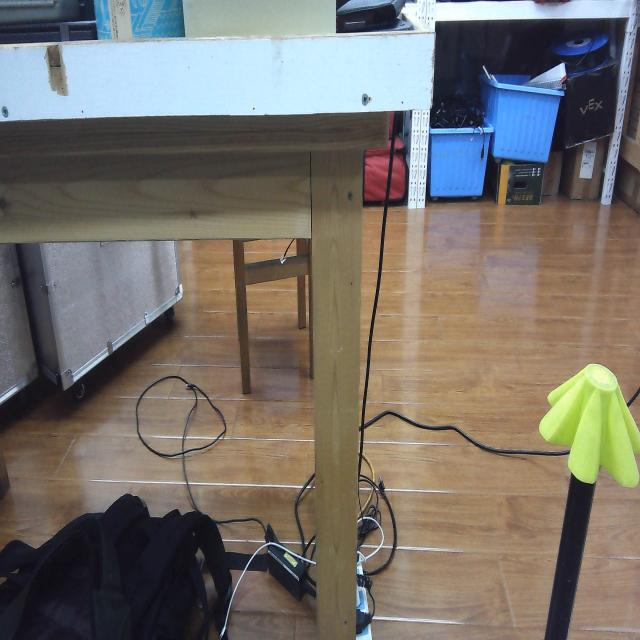Yellow-Stake-Head: (538, 363, 640, 488)
